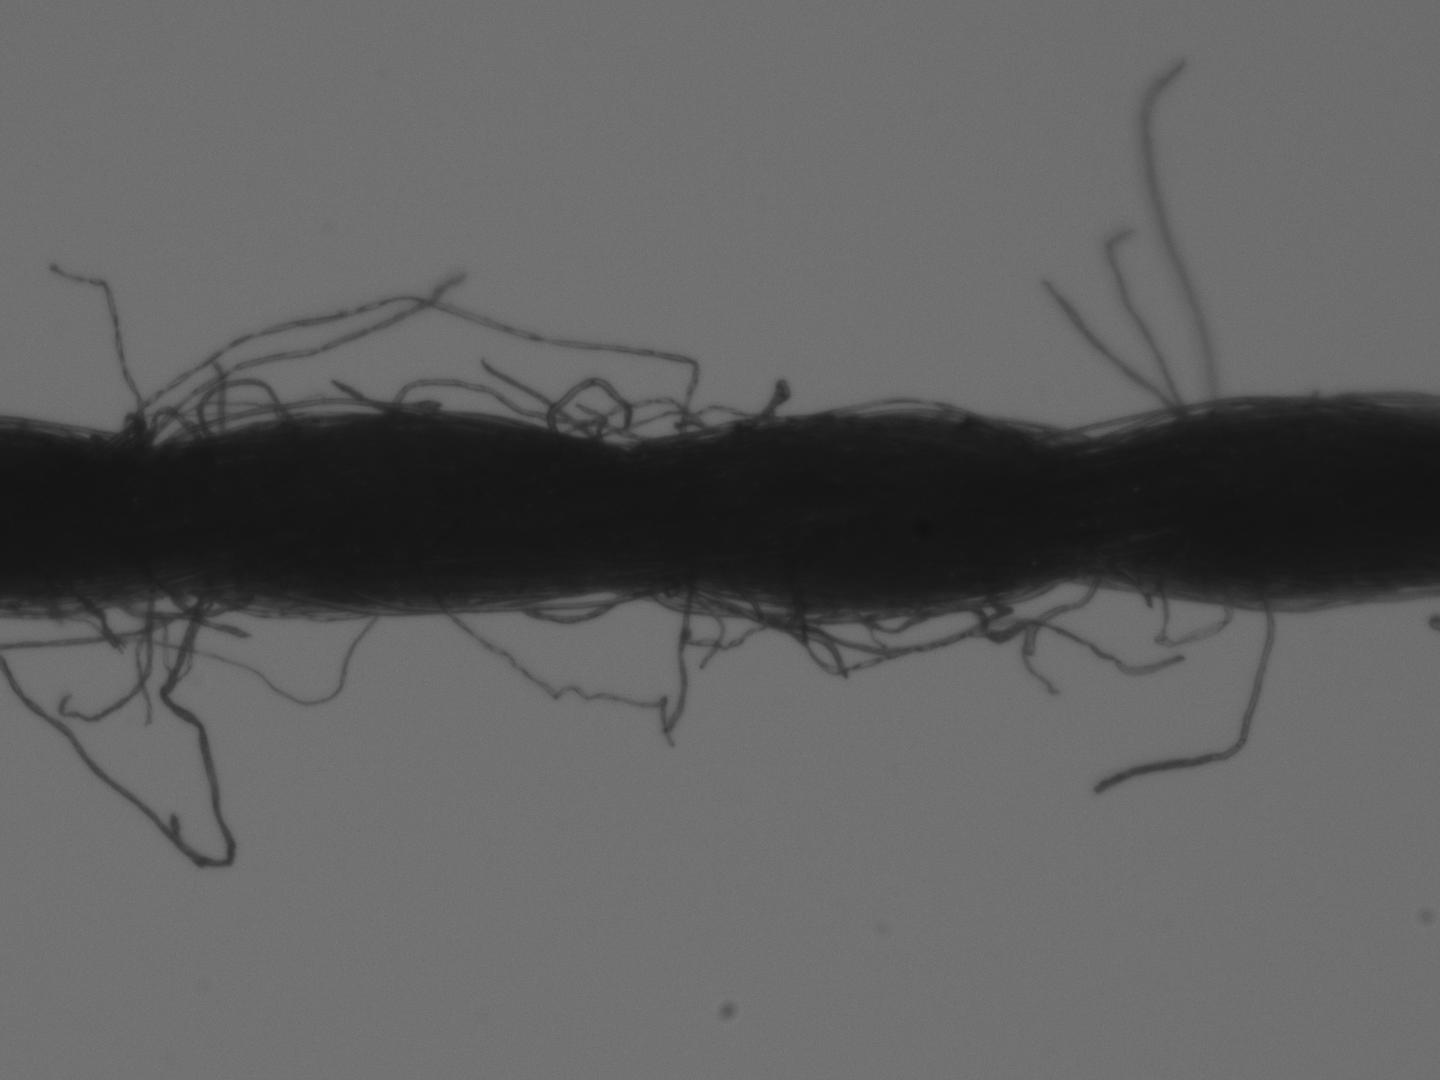loop_fiber: (103, 289, 702, 462), (676, 576, 1018, 661), (383, 373, 647, 453), (190, 371, 297, 442), (507, 576, 647, 626), (819, 394, 983, 429), (104, 581, 219, 626), (1154, 589, 1234, 648), (132, 404, 207, 455), (112, 405, 151, 446)
protruding_fiber: (1086, 596, 1287, 798), (1142, 62, 1223, 411)
